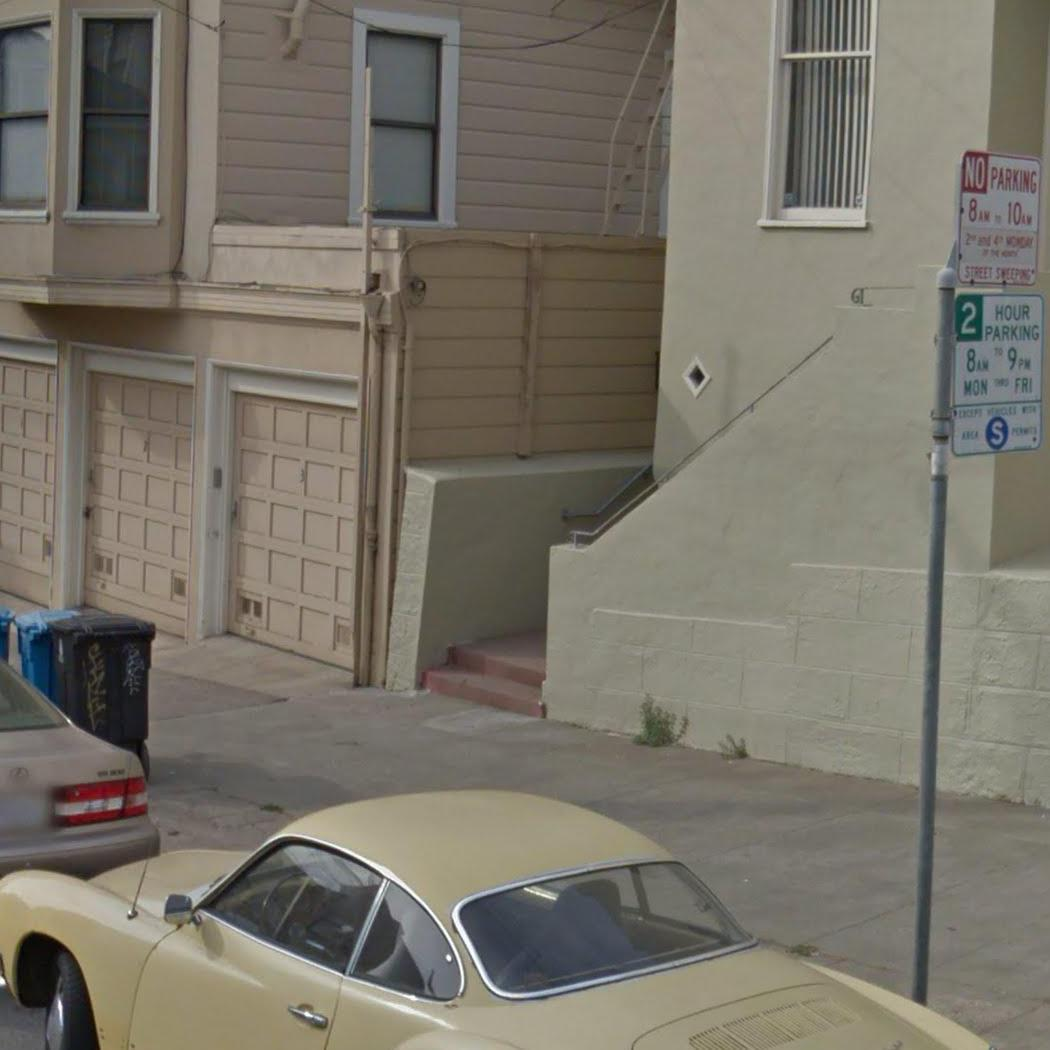2 Hour Parking: (946, 293, 1049, 454)
No Parking: (954, 146, 1044, 289)
